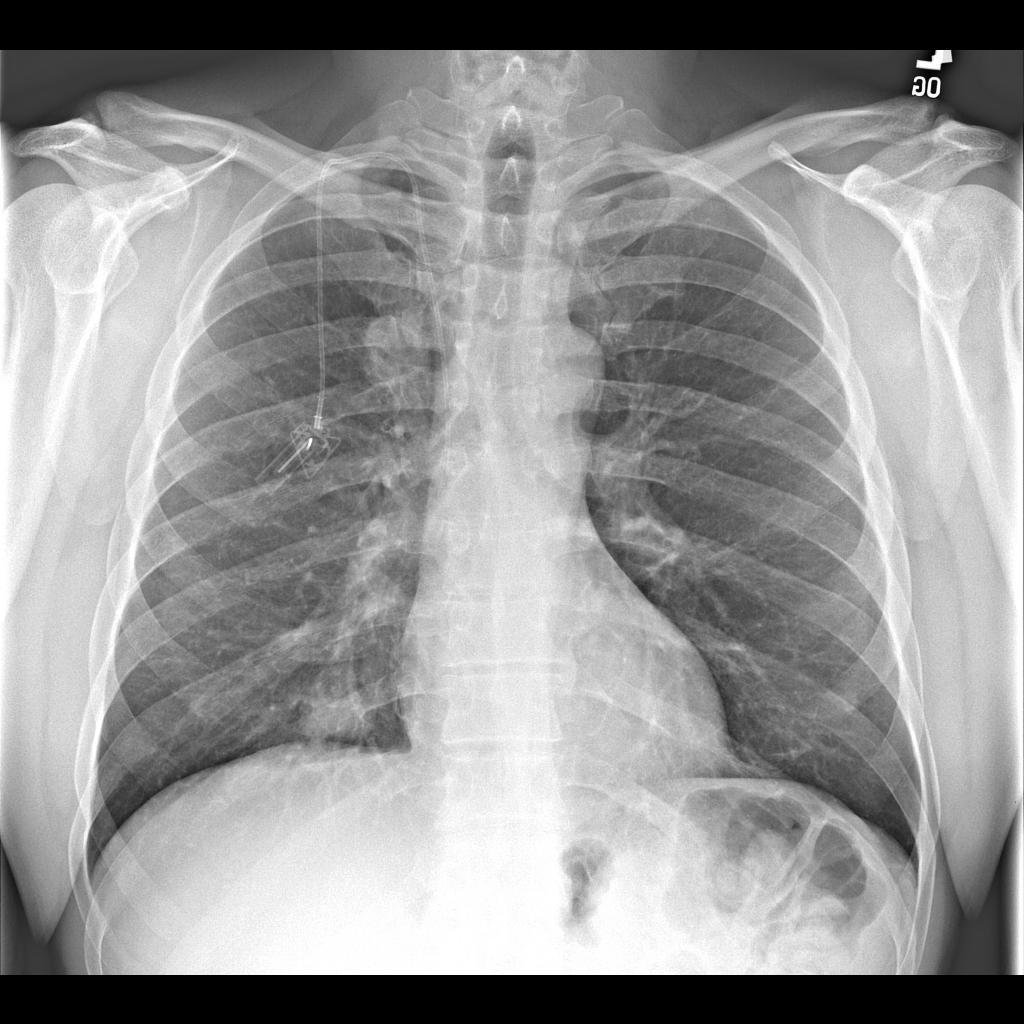Nodule: (353, 307, 445, 400), (303, 673, 377, 774)
